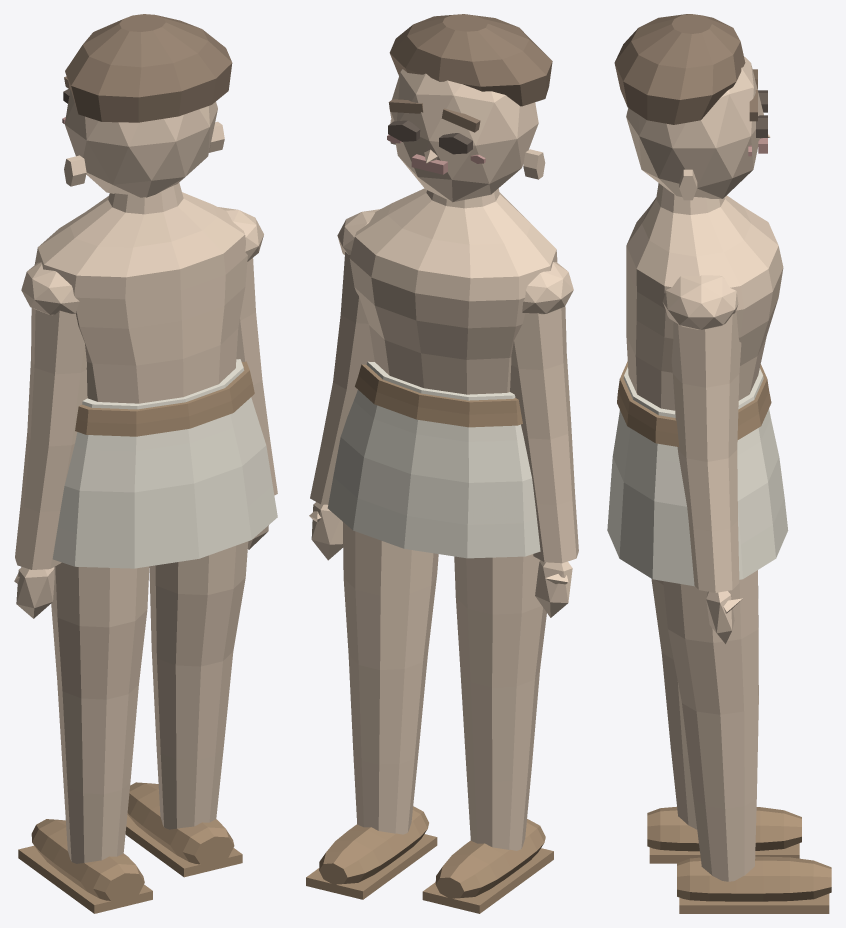
Rendered from 19-NPCs_npc_base.glb.
The picture shows the model from 3 angles, left to right: view 1: azimuth 30°, elevation 25°; view 2: azimuth 150°, elevation 25°; view 3: azimuth 270°, elevation 25°; orthographic projection. The views are drawn at different scales.
Parts seen in each view (by area): view 1: SM_NPC_Torso, SM_NPC_RopaBase, SM_NPC_Pierna_I, SM_NPC_Pierna_D, SM_NPC_Cabello, SM_NPC_Brazo_I, SM_NPC_Pies, SM_NPC_Cabeza, SM_NPC_Brazo_D, SM_NPC_Mano_I; view 2: SM_NPC_Torso, SM_NPC_RopaBase, SM_NPC_Pierna_D, SM_NPC_Pierna_I, SM_NPC_Pies, SM_NPC_Cabeza, SM_NPC_Brazo_I, SM_NPC_Cabello, SM_NPC_Brazo_D, SM_NPC_Mano_I, SM_NPC_Mano_D, SM_NPC_Ojos (+2 smaller); view 3: SM_NPC_Torso, SM_NPC_Pierna_D, SM_NPC_RopaBase, SM_NPC_Brazo_D, SM_NPC_Pies, SM_NPC_Cabello, SM_NPC_Cabeza, SM_NPC_Pierna_I, SM_NPC_Mano_D.
Part boxes in pixels (x1,y1,x2,y2): SM_NPC_Torso: (21, 182, 263, 403); SM_NPC_RopaBase: (52, 359, 277, 568); SM_NPC_Pierna_I: (51, 562, 149, 863); SM_NPC_Pierna_D: (149, 541, 248, 829); SM_NPC_Cabello: (65, 14, 232, 122); SM_NPC_Brazo_I: (15, 308, 87, 569); SM_NPC_Pies: (18, 782, 242, 913); SM_NPC_Cabeza: (64, 89, 224, 197); SM_NPC_Brazo_D: (236, 258, 277, 495); SM_NPC_Mano_I: (14, 566, 54, 618); SM_NPC_Torso: (337, 188, 573, 394); SM_NPC_RopaBase: (327, 361, 540, 558); SM_NPC_Pierna_D: (343, 522, 438, 834); SM_NPC_Pierna_I: (454, 554, 546, 850); SM_NPC_Pies: (306, 806, 553, 913); SM_NPC_Cabeza: (389, 69, 545, 202); SM_NPC_Brazo_I: (510, 306, 578, 563); SM_NPC_Cabello: (389, 14, 552, 106); SM_NPC_Brazo_D: (310, 252, 374, 504); SM_NPC_Mano_I: (535, 560, 572, 617); SM_NPC_Mano_D: (309, 502, 343, 560); SM_NPC_Ojos: (388, 120, 472, 154); SM_NPC_Torso: (626, 183, 783, 410); SM_NPC_Pierna_D: (663, 570, 758, 881); SM_NPC_RopaBase: (607, 361, 788, 586); SM_NPC_Brazo_D: (671, 311, 741, 592); SM_NPC_Pies: (647, 806, 831, 913); SM_NPC_Cabello: (614, 14, 745, 124); SM_NPC_Cabeza: (626, 56, 770, 200); SM_NPC_Pierna_I: (651, 579, 697, 829); SM_NPC_Mano_D: (706, 591, 742, 643).
Size of the model in its own units: 0.506 by 1.57 by 0.377.
